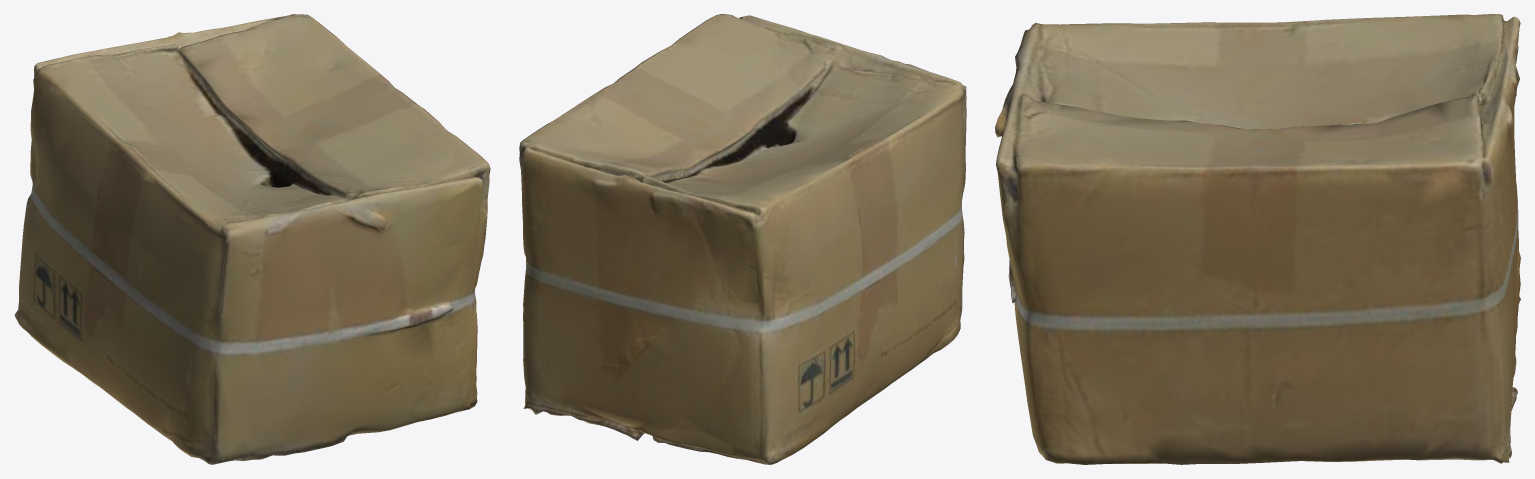
The model's file is cardboard_box_01.glb.
3 renders of one model, left to right at view 1: azimuth 30°, elevation 25°; view 2: azimuth 150°, elevation 25°; view 3: azimuth 270°, elevation 25°, orthographic. The views are drawn at different scales.
Visible parts, largest first — view 1: cardboard_box_01; view 2: cardboard_box_01; view 3: cardboard_box_01.
Part boxes in pixels (left/top/right/bottom): cardboard_box_01: left=14, top=14, right=490, bottom=464; cardboard_box_01: left=519, top=14, right=966, bottom=464; cardboard_box_01: left=995, top=14, right=1520, bottom=464.
Bounding box in the file's own units: 0.3868 × 0.3418 × 0.5159.
1 material, 1 textured.
